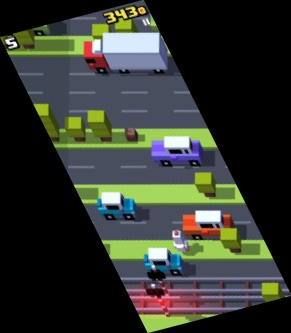car: (182, 210, 234, 245), (151, 136, 202, 168), (1, 10, 50, 38), (97, 191, 137, 222), (141, 247, 182, 277)
duck: (171, 229, 189, 252)
light off: (146, 266, 172, 299)
light on: (145, 283, 173, 320)
rail: (121, 292, 291, 315), (114, 275, 291, 297)
stump: (123, 127, 138, 144)
tree: (28, 103, 60, 142), (87, 109, 114, 143), (113, 16, 142, 47), (261, 282, 284, 316), (10, 21, 36, 49), (218, 229, 242, 255), (194, 171, 217, 198), (64, 116, 86, 142), (91, 24, 113, 47)
truck: (82, 33, 167, 76)
